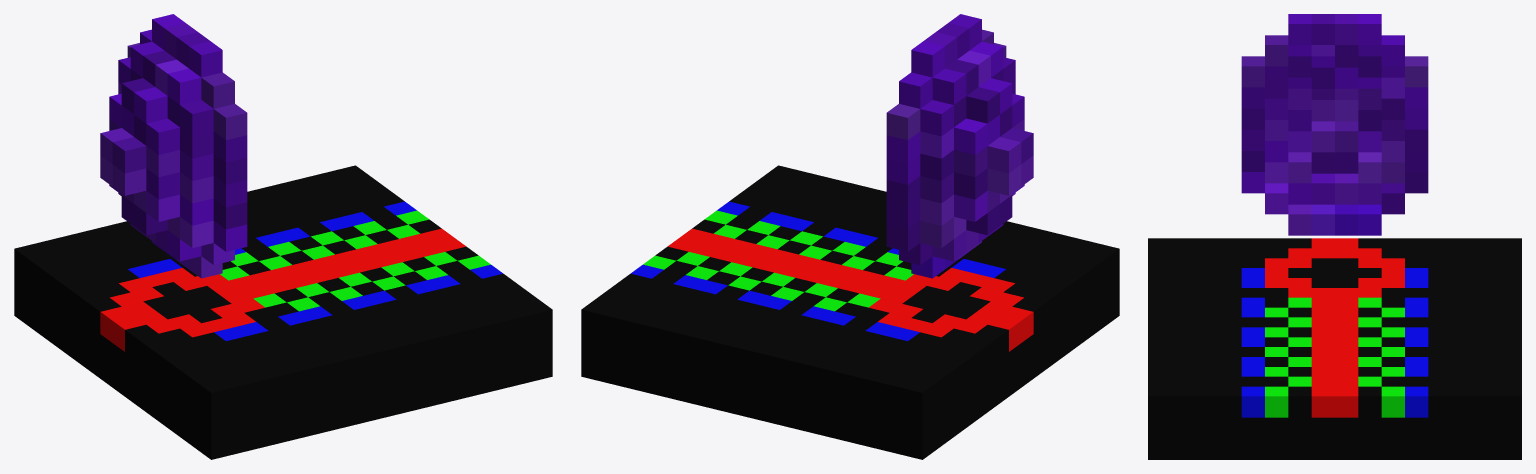
File: portal.obj
The picture shows the model from 3 angles, left to right: view 1: azimuth 30°, elevation 25°; view 2: azimuth 150°, elevation 25°; view 3: azimuth 270°, elevation 25°; orthographic projection. The views are drawn at different scales.
Visible parts, largest first — view 1: portal; view 2: portal; view 3: portal.
Part boxes in pixels (x1,y1,x2,y2): portal: (14,14,552,459); portal: (581,14,1119,459); portal: (1148,14,1521,459).
Bounding box in the file's own units: 16 × 15 × 16.
Materials: 1 (1 with a texture image).
